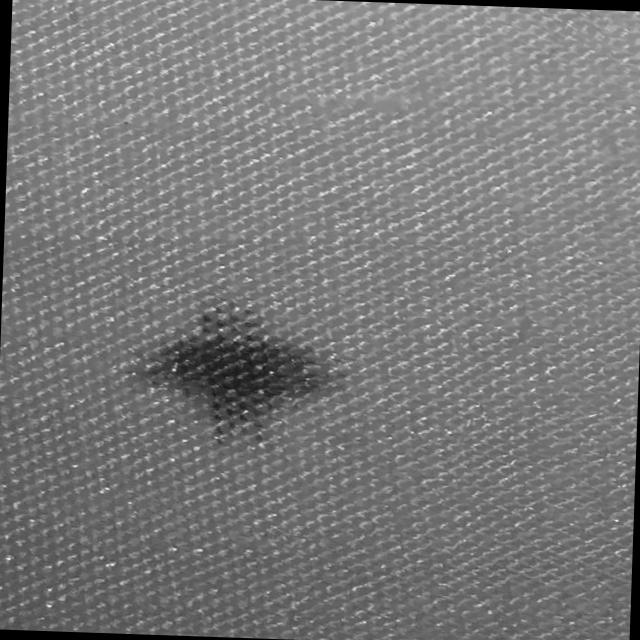Stain: (142, 300, 339, 442)
